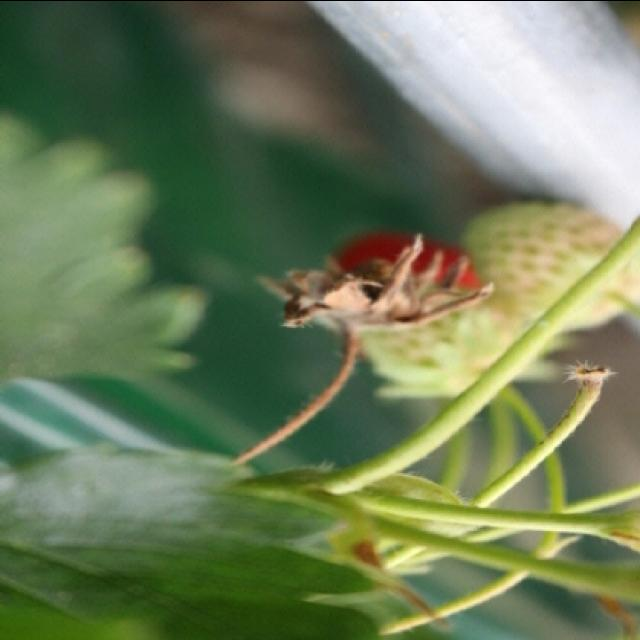Gray Mold: (267, 226, 497, 350)
